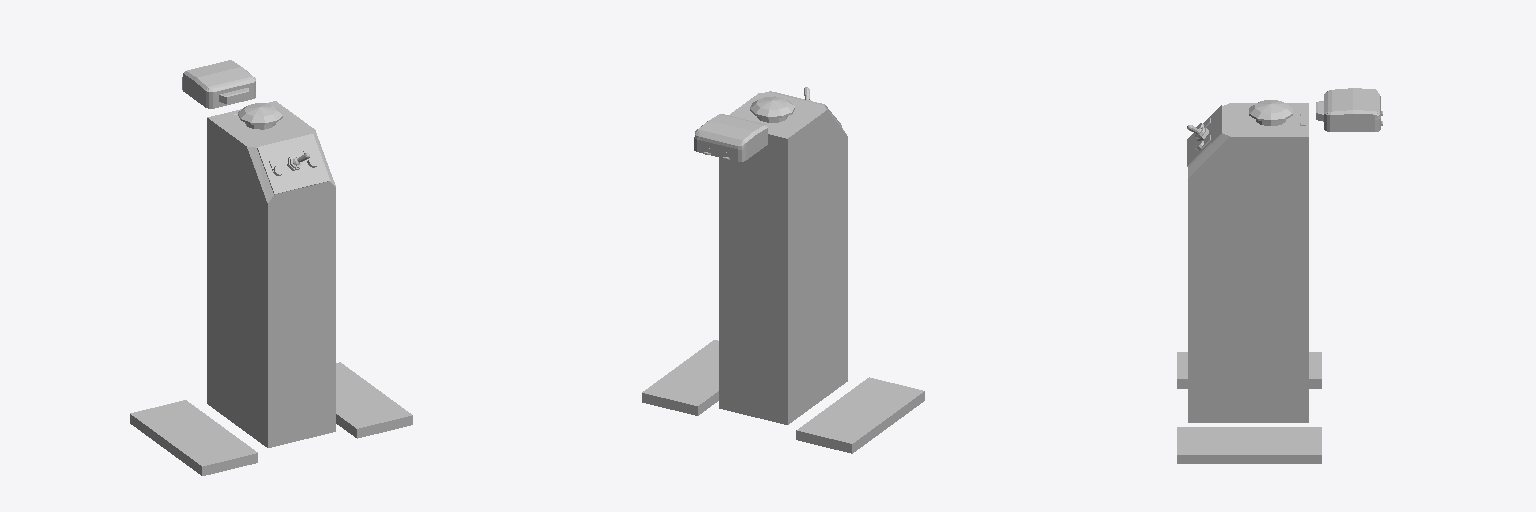
The model's file is LaunchButtonUVs_Type2.obj.
3 renders of one model, left to right at view 1: azimuth 30°, elevation 25°; view 2: azimuth 150°, elevation 25°; view 3: azimuth 270°, elevation 25°, orthographic.
Visible parts, largest first — view 1: LaunchButton Base, Floor_01_Geo, Floor_02_Geo, LaunchButton Cover, LaunchButton Button; view 2: LaunchButton Base, Floor_01_Geo, Floor_02_Geo, LaunchButton Cover, LaunchButton Button; view 3: LaunchButton Base, Floor_02_Geo, LaunchButton Cover, Floor_01_Geo, LaunchButton Button.
Part boxes in pixels (x1,y1,x2,y2): LaunchButton Base: (207, 101, 335, 447); Floor_01_Geo: (130, 400, 257, 475); Floor_02_Geo: (336, 362, 412, 438); LaunchButton Cover: (182, 60, 255, 108); LaunchButton Button: (238, 103, 282, 129); LaunchButton Base: (719, 91, 847, 424); Floor_01_Geo: (796, 377, 924, 453); Floor_02_Geo: (642, 340, 718, 415); LaunchButton Cover: (694, 114, 767, 161); LaunchButton Button: (750, 96, 794, 122); LaunchButton Base: (1187, 103, 1308, 422); Floor_02_Geo: (1177, 427, 1321, 463); LaunchButton Cover: (1316, 88, 1382, 131); Floor_01_Geo: (1177, 352, 1321, 388); LaunchButton Button: (1249, 100, 1292, 125).
Size of the model in its own units: 8.55 by 12.18 by 7.28.